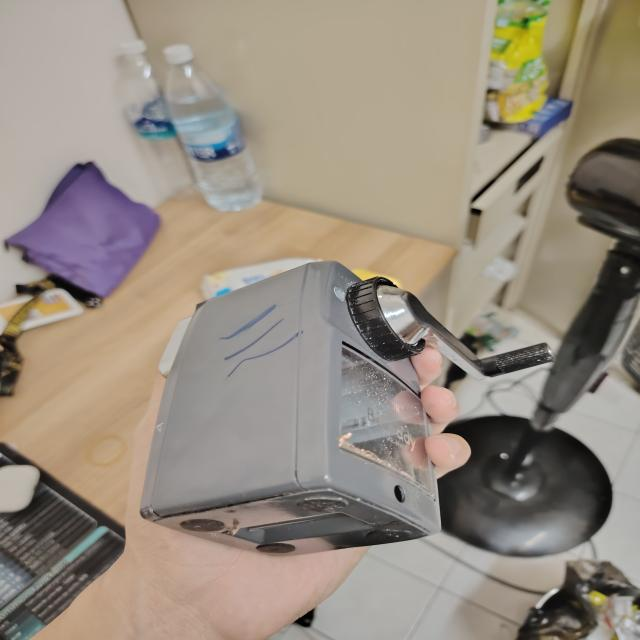sharpener: (140, 261, 554, 556)
